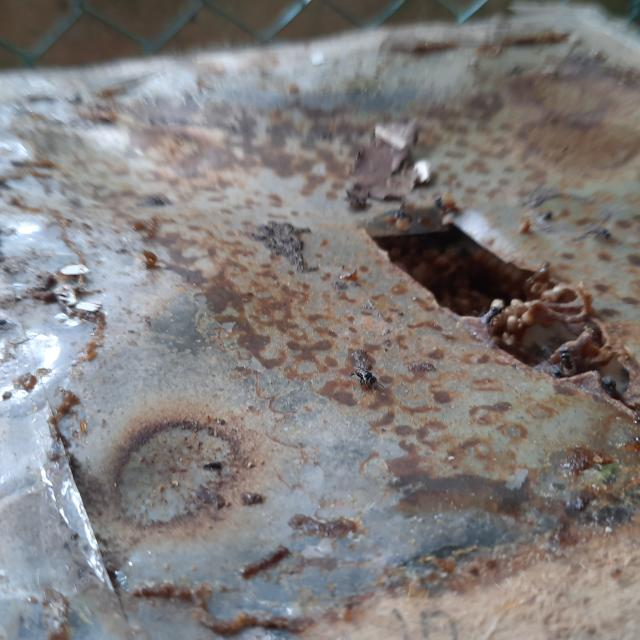honeybee: (476, 303, 504, 330), (353, 362, 378, 385), (557, 345, 578, 372), (602, 375, 620, 397)
